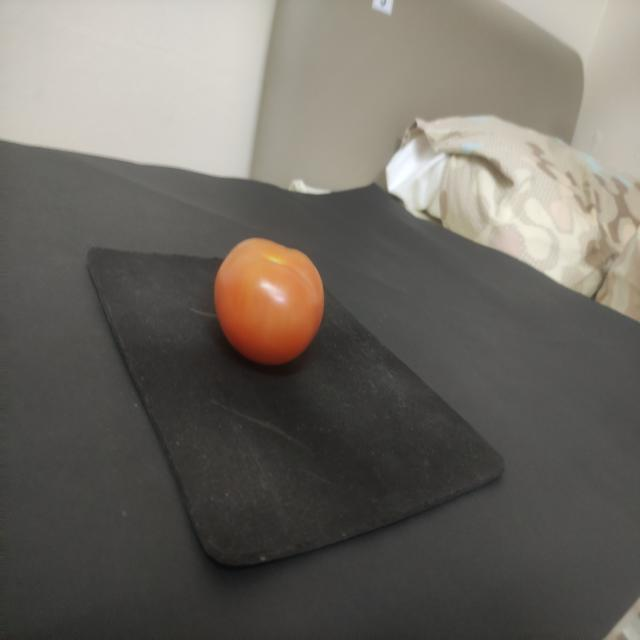sari: (203, 208, 338, 376)
